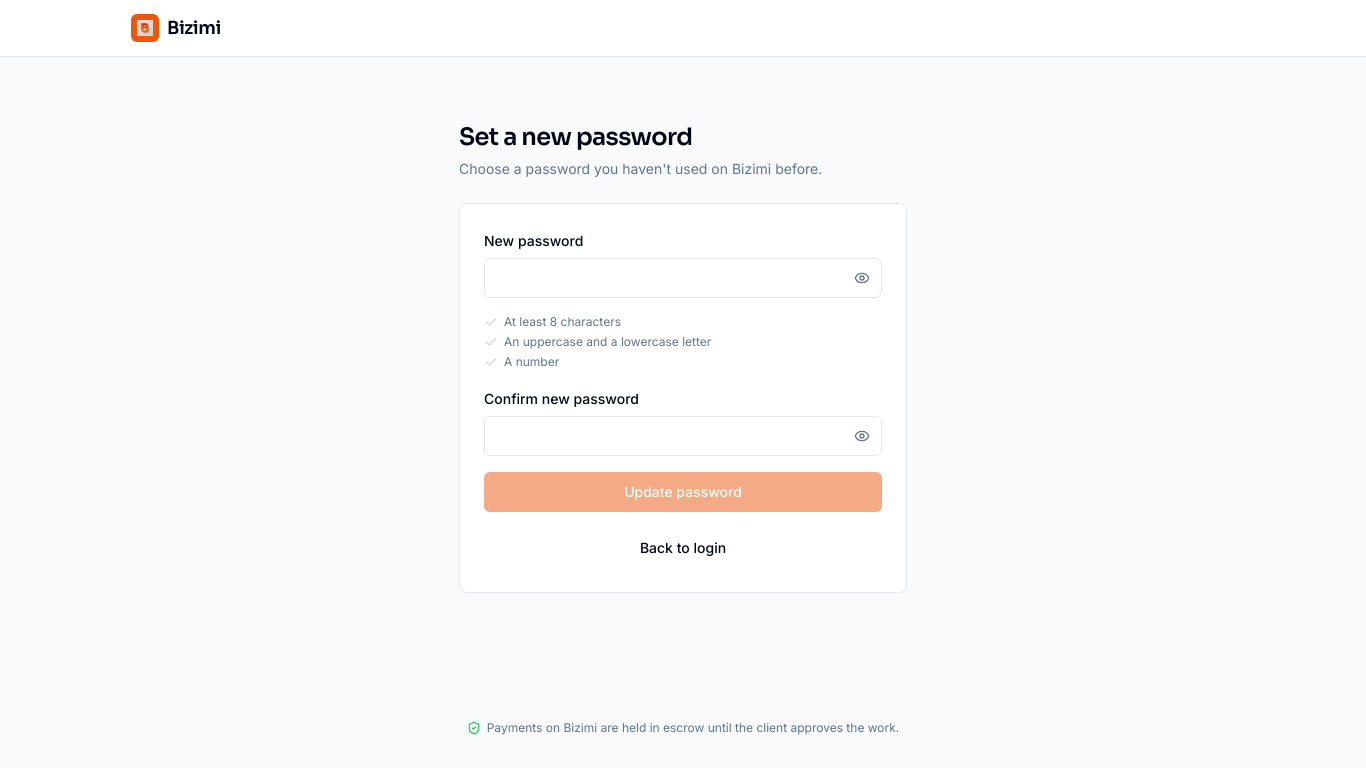
Test case: ResetPassword › shows the Supabase error message when updateUser fails
The width and height of the screenshot is (1366, 768).
Type "GoodPass1" into the password field labelled "New password" at (683, 278), box left=484, top=258, right=882, bottom=298
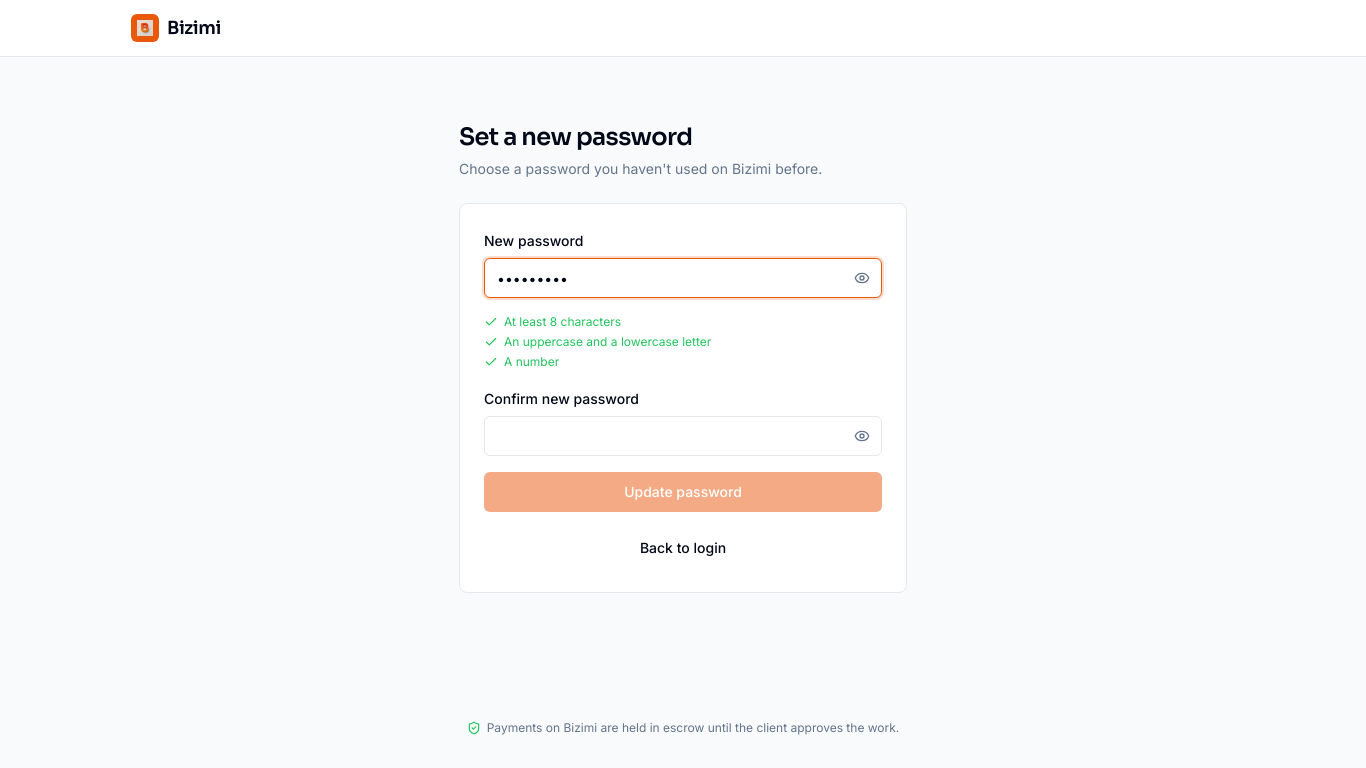
Type "GoodPass1" into the password field labelled "Confirm new password" at (683, 436), box left=484, top=416, right=882, bottom=456
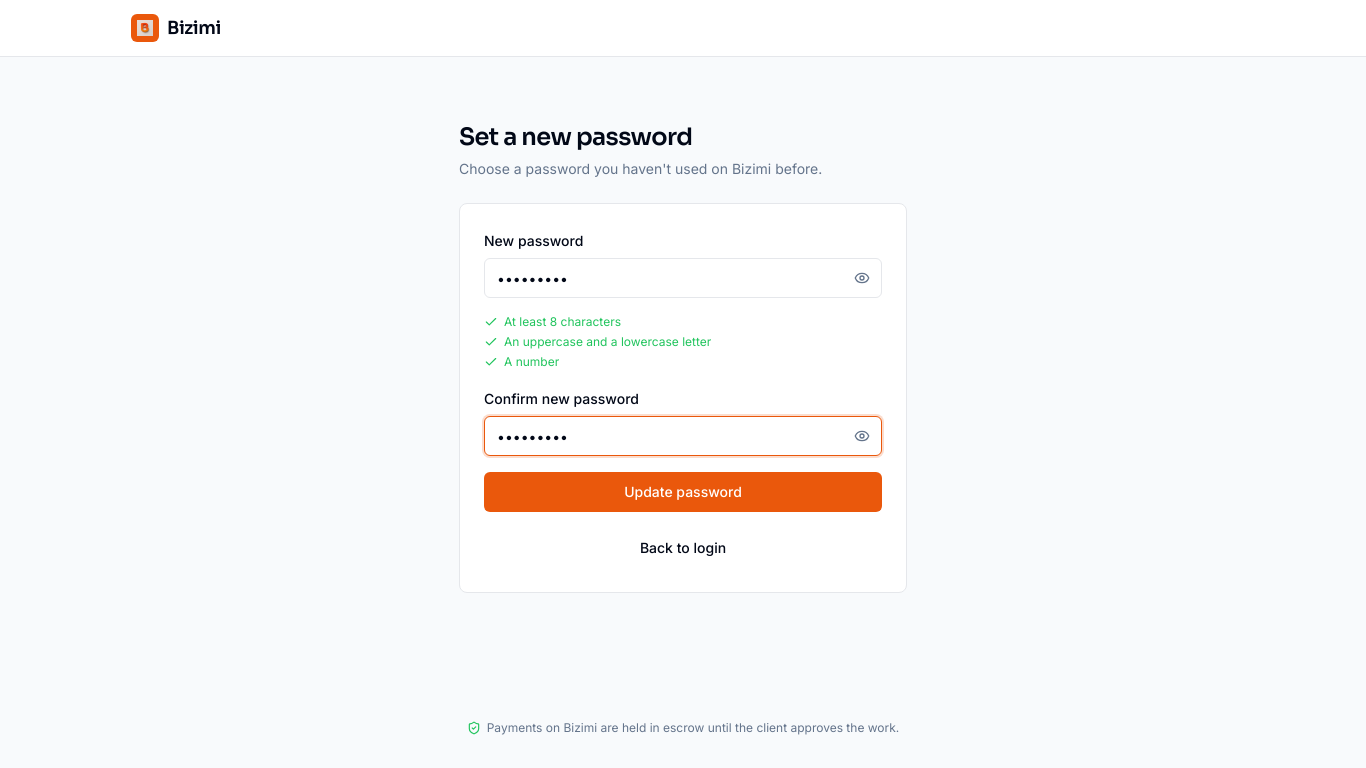
Click the button "Update password" at (683, 492), box left=484, top=472, right=882, bottom=512
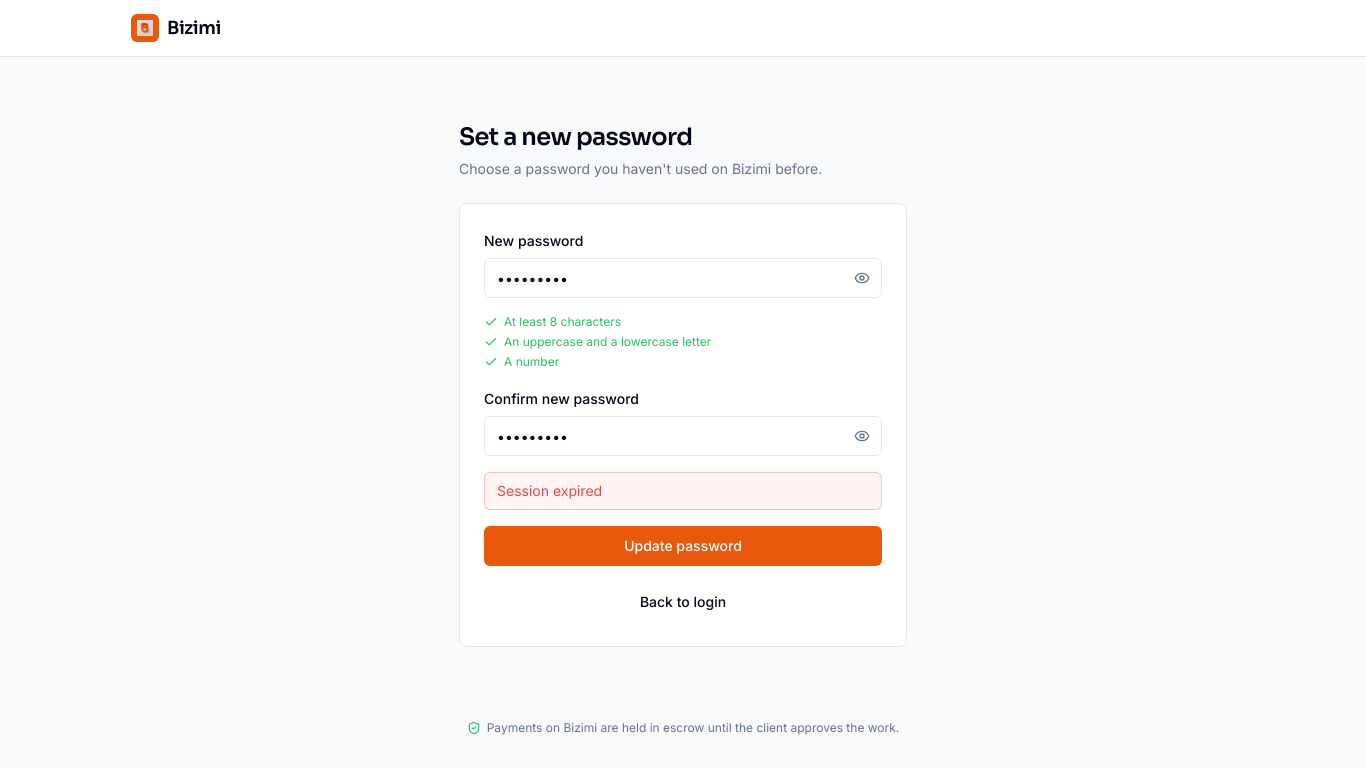
Now the text "Session expired" is shown, box left=484, top=472, right=882, bottom=510
